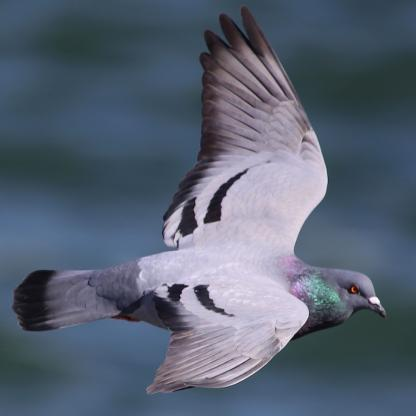Rock Pigeon: (16, 37, 388, 398)
